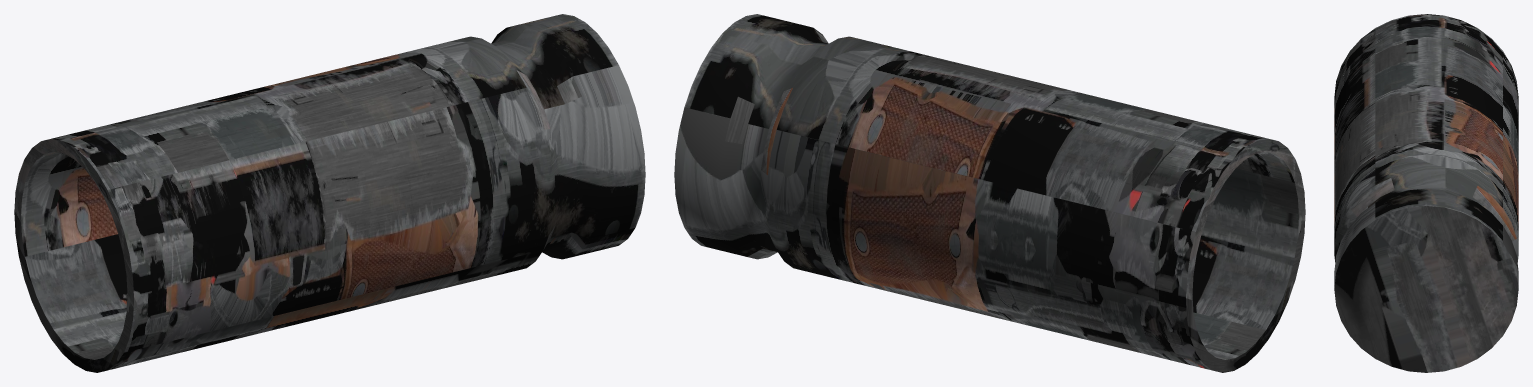
Rendered from pistol-bullet-shell.glb.
3 renders of one model, left to right at view 1: azimuth 30°, elevation 25°; view 2: azimuth 150°, elevation 25°; view 3: azimuth 270°, elevation 25°, orthographic. The views are drawn at different scales.
Visible parts, largest first — view 1: Cylinder.006; view 2: Cylinder.006; view 3: Cylinder.006.
Part boxes in pixels (x1,y1,x2,y2): Cylinder.006: (14,14,645,372); Cylinder.006: (674,14,1305,372); Cylinder.006: (1334,14,1518,372).
Size of the model in its own units: 0.7487 by 0.3038 by 0.3038.
Materials: 1 (1 with a texture image).
